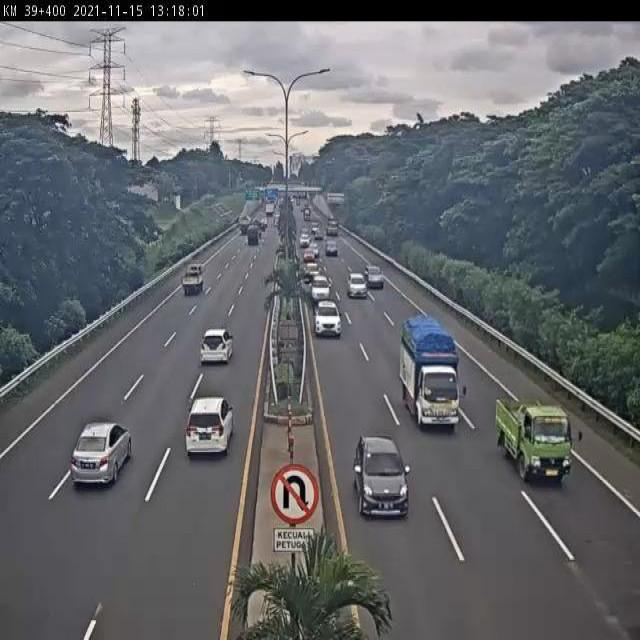car: (69, 420, 135, 488), (310, 273, 333, 303), (346, 269, 368, 300)
truck-m-: (402, 314, 463, 430)
truck-s-: (495, 392, 574, 487), (182, 261, 207, 295)
